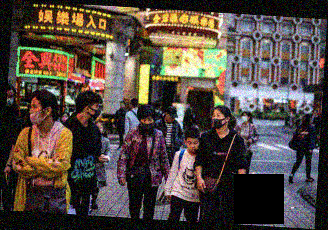mask_weared_incorrect: (28, 101, 46, 126)
with_mask: (139, 113, 155, 132), (211, 111, 228, 127), (87, 103, 102, 121), (240, 112, 250, 124), (7, 91, 15, 105)
without_mask: (186, 138, 201, 152), (167, 113, 176, 123)
